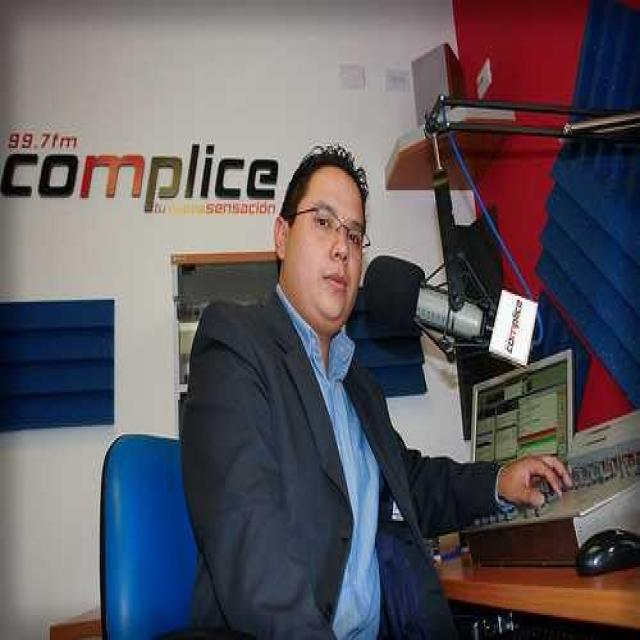microphone: (354, 255, 494, 367)
